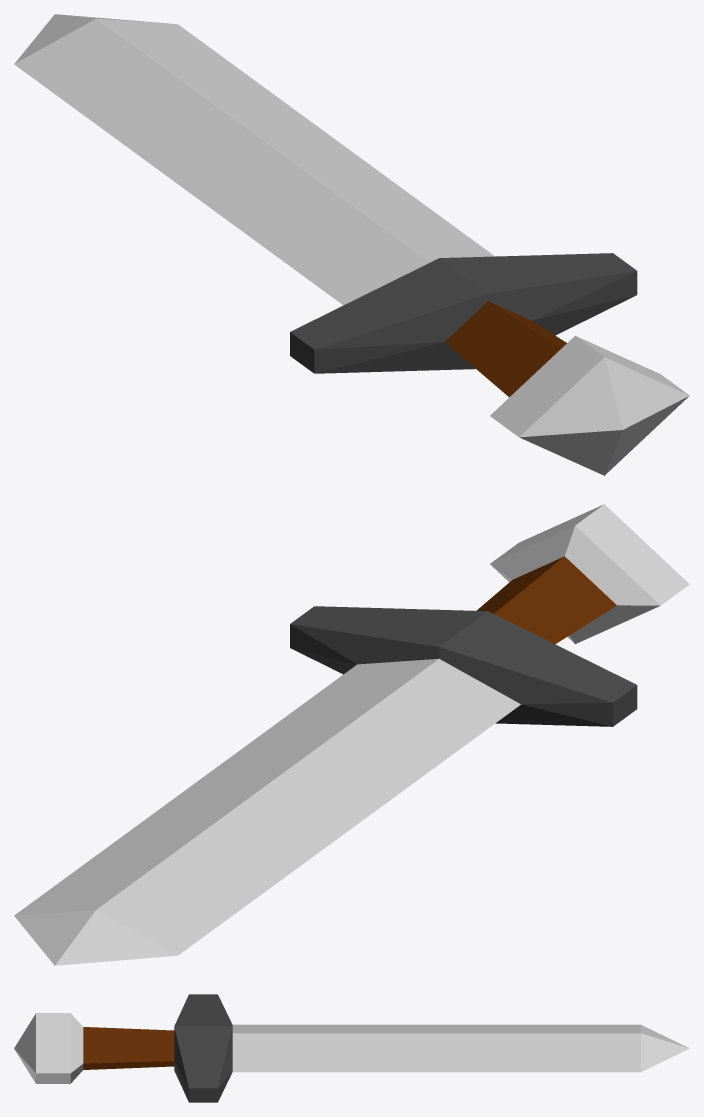
The model's file is SM_SM_Sword_01.fbx.
The picture shows the model from 3 angles, top to bottom: view 1: azimuth 30°, elevation 25°; view 2: azimuth 150°, elevation 25°; view 3: azimuth 270°, elevation 25°; orthographic projection. The views are drawn at different scales.
Parts seen in each view (by area): view 1: SM_Sword_01; view 2: SM_Sword_01; view 3: SM_Sword_01.
Boxes of the visible parts, x1,y1,x2,y2 form: SM_Sword_01: (14, 14, 689, 475); SM_Sword_01: (14, 504, 689, 965); SM_Sword_01: (14, 994, 689, 1102).
Size of the model in its own units: 35.56 by 12.49 by 108.
